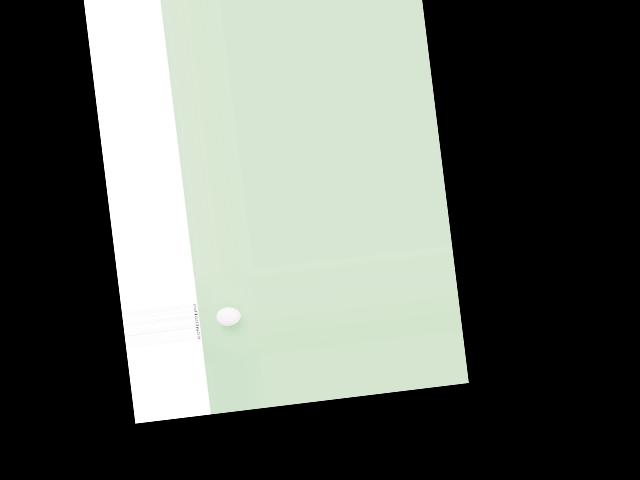egg: (215, 305, 241, 327)
